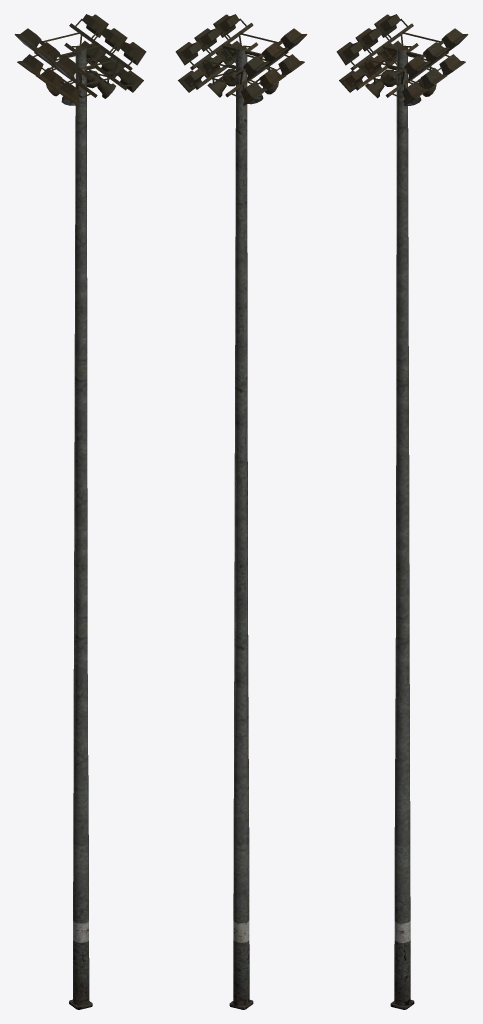
The model's file is lights_industrialcluster01a.glb.
3 views of the same model, side by side, from view 1: azimuth 30°, elevation 25°; view 2: azimuth 150°, elevation 25°; view 3: azimuth 330°, elevation 25° (orthographic).
Visible parts, largest first — view 1: 0_Light_IndustrialCluster01a; view 2: 0_Light_IndustrialCluster01a; view 3: 0_Light_IndustrialCluster01a.
Part boxes in pixels (x1=…): 0_Light_IndustrialCluster01a: x1=14, y1=14, x2=146, y2=1009; 0_Light_IndustrialCluster01a: x1=175, y1=14, x2=307, y2=1009; 0_Light_IndustrialCluster01a: x1=336, y1=14, x2=468, y2=1009.
Size of the model in its own units: 1.73 by 19.51 by 2.18.
Materials: 1 (1 with a texture image).
